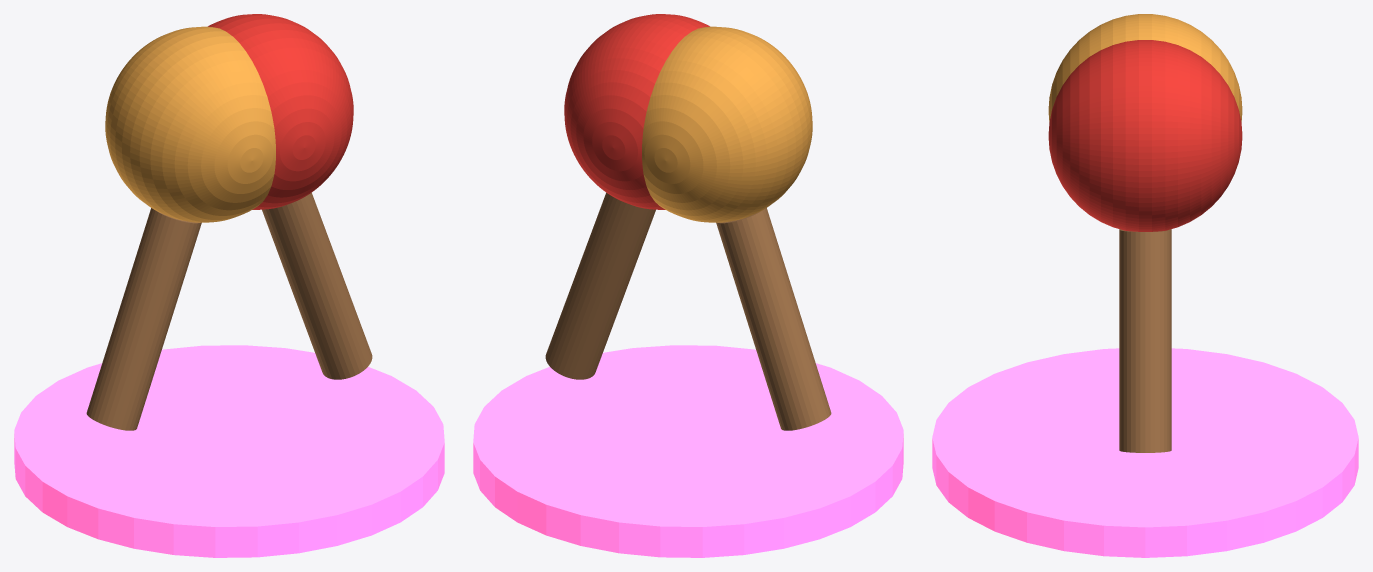
The model's file is music_maracas.glb.
3 renders of one model, left to right at view 1: azimuth 30°, elevation 25°; view 2: azimuth 150°, elevation 25°; view 3: azimuth 270°, elevation 25°, orthographic.
Visible parts, largest first — view 1: 07_16_Popular_Music_Maracas_ROOT_base, 07_16_Popular_Music_Maracas_part_02, 07_16_Popular_Music_Maracas_part_04, 07_16_Popular_Music_Maracas_part_01, 07_16_Popular_Music_Maracas_part_03; view 2: 07_16_Popular_Music_Maracas_ROOT_base, 07_16_Popular_Music_Maracas_part_02, 07_16_Popular_Music_Maracas_part_04, 07_16_Popular_Music_Maracas_part_01, 07_16_Popular_Music_Maracas_part_03; view 3: 07_16_Popular_Music_Maracas_ROOT_base, 07_16_Popular_Music_Maracas_part_04, 07_16_Popular_Music_Maracas_part_03, 07_16_Popular_Music_Maracas_part_02.
Part boxes in pixels (x1,y1,x2,y2): 07_16_Popular_Music_Maracas_ROOT_base: [14, 345, 444, 557]; 07_16_Popular_Music_Maracas_part_02: [105, 26, 275, 222]; 07_16_Popular_Music_Maracas_part_04: [208, 14, 353, 209]; 07_16_Popular_Music_Maracas_part_01: [86, 208, 201, 430]; 07_16_Popular_Music_Maracas_part_03: [262, 192, 372, 379]; 07_16_Popular_Music_Maracas_ROOT_base: [473, 345, 903, 557]; 07_16_Popular_Music_Maracas_part_02: [642, 26, 812, 222]; 07_16_Popular_Music_Maracas_part_04: [564, 14, 709, 209]; 07_16_Popular_Music_Maracas_part_01: [716, 208, 831, 430]; 07_16_Popular_Music_Maracas_part_03: [545, 192, 655, 379]; 07_16_Popular_Music_Maracas_ROOT_base: [932, 348, 1358, 557]; 07_16_Popular_Music_Maracas_part_04: [1048, 40, 1242, 231]; 07_16_Popular_Music_Maracas_part_03: [1119, 229, 1171, 452]; 07_16_Popular_Music_Maracas_part_02: [1048, 14, 1242, 121].
Bounding box in the file's own units: 0.76 × 0.85 × 0.76.
